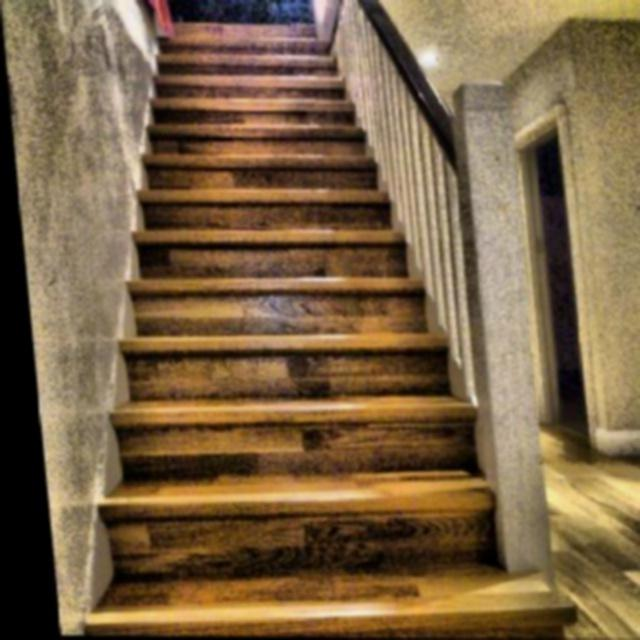stair: (24, 12, 470, 630)
